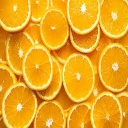orange: (62, 52, 95, 102)
